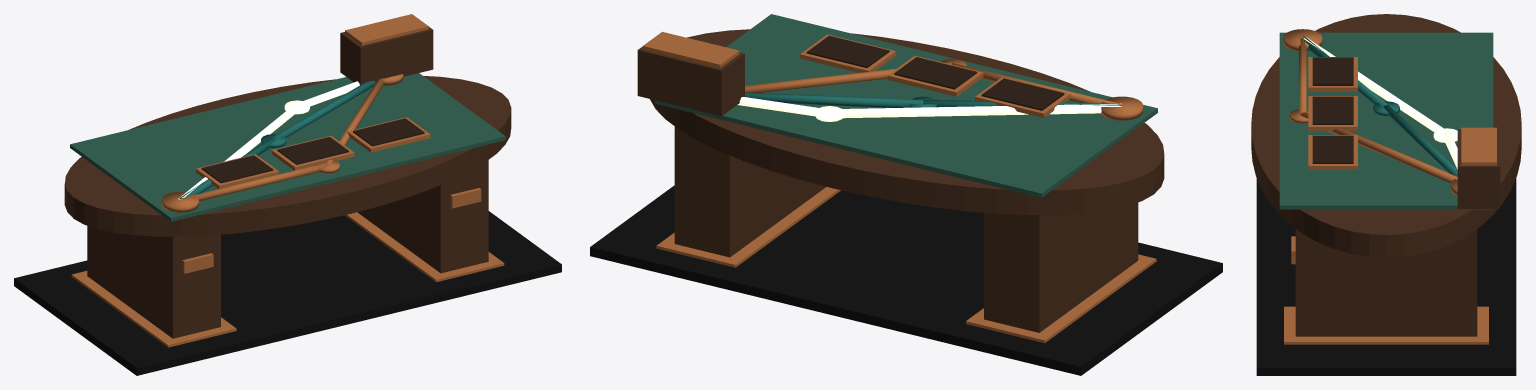
The model's file is route_table.glb.
3 renders of one model, left to right at view 1: azimuth 30°, elevation 25°; view 2: azimuth 150°, elevation 25°; view 3: azimuth 270°, elevation 25°, orthographic. The views are drawn at different scales.
Parts seen in each view (by area): view 1: route_table wood, route_table rubber, route_table felt, route_table metal, route_table sign, route_table glass, route_table lamp; view 2: route_table wood, route_table rubber, route_table felt, route_table metal, route_table sign, route_table lamp, route_table glass; view 3: route_table wood, route_table felt, route_table rubber, route_table metal, route_table sign, route_table glass, route_table lamp.
Boxes of the visible parts, x1,y1,x2,y2 form: route_table wood: [64, 27, 511, 338]; route_table rubber: [14, 211, 561, 375]; route_table felt: [70, 73, 505, 221]; route_table metal: [71, 14, 504, 347]; route_table sign: [201, 118, 424, 183]; route_table glass: [179, 80, 375, 199]; route_table lamp: [178, 81, 359, 199]; route_table wood: [637, 29, 1164, 332]; route_table rubber: [590, 185, 1222, 375]; route_table felt: [655, 14, 1157, 197]; route_table metal: [643, 31, 1156, 343]; route_table sign: [806, 35, 1064, 110]; route_table lamp: [737, 97, 1121, 121]; route_table glass: [745, 92, 1121, 107]; route_table wood: [1251, 14, 1521, 336]; route_table felt: [1279, 32, 1493, 209]; route_table rubber: [1256, 178, 1516, 375]; route_table metal: [1283, 29, 1496, 344]; route_table sign: [1312, 57, 1353, 163]; route_table glass: [1300, 36, 1457, 176]; route_table lamp: [1301, 36, 1457, 168].
Size of what is drawn, in the model's own units: 2.94 by 1.21 by 1.52.
